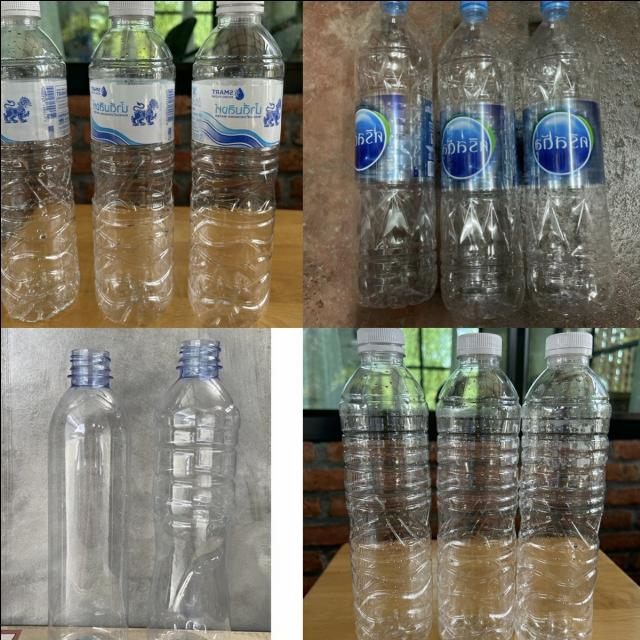plastik: (187, 0, 283, 325), (518, 0, 614, 314), (515, 331, 610, 640), (338, 327, 431, 640), (87, 0, 174, 324), (147, 338, 239, 640), (437, 0, 523, 319), (435, 332, 519, 640), (353, 0, 437, 307), (0, 0, 79, 321), (47, 348, 129, 640)
